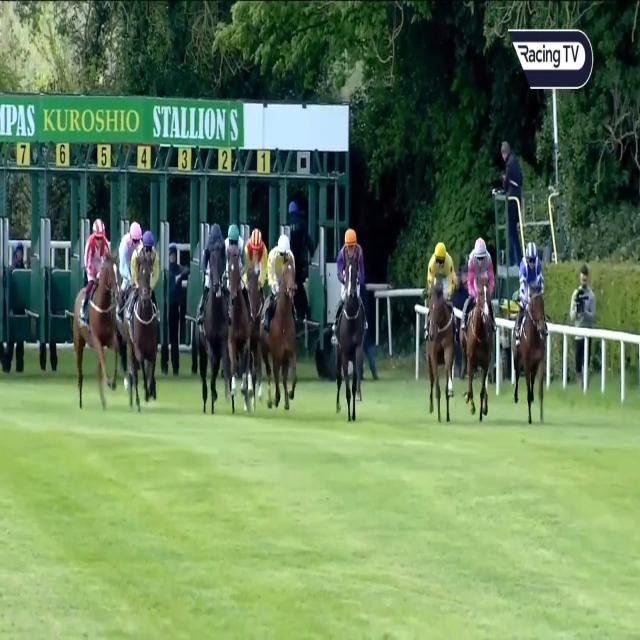horses-racing: (72, 213, 119, 385), (193, 225, 231, 409), (124, 224, 162, 406), (514, 241, 550, 428), (268, 231, 302, 413), (337, 229, 369, 417), (464, 238, 497, 420), (426, 240, 459, 421), (222, 222, 248, 414), (242, 222, 267, 406), (115, 219, 141, 361)
